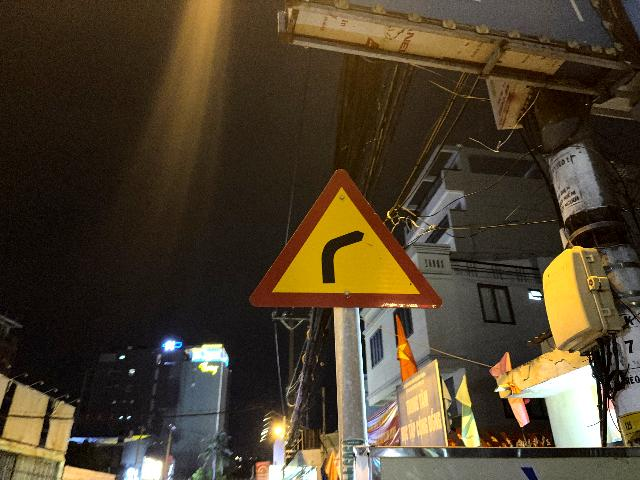cho-ngoat-nguy-hiem-ben-phai: (249, 167, 442, 308)
